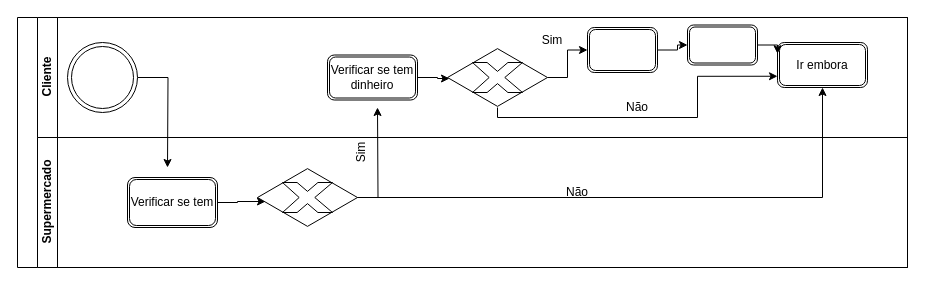
This 925x285 diagram has some shape labels left out. The centre of each missing label's shape, as x and y in pixels:
Pagar: pixel 622 49
Pegar o Produto: pixel 722 44
Solicitar refrigerante: pixel 102 77
